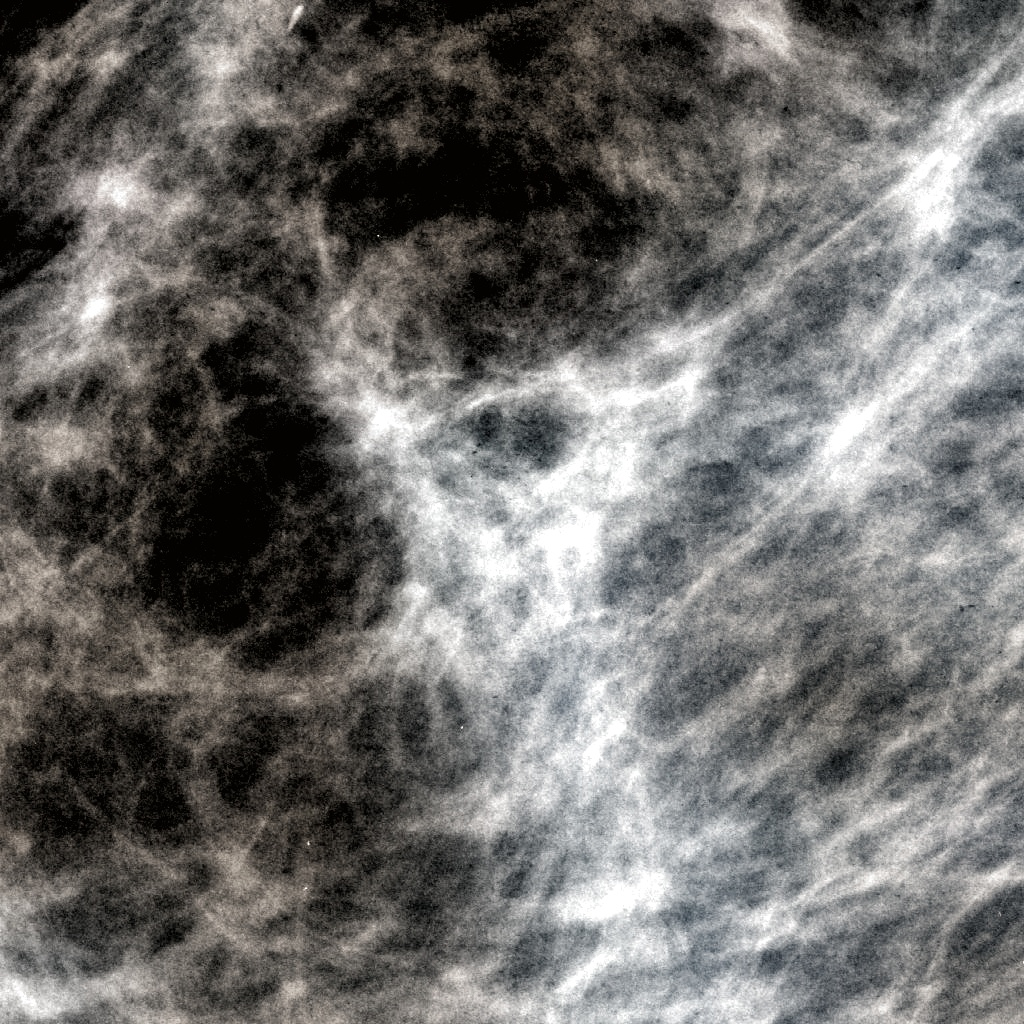tumor: (319, 325, 705, 699)
